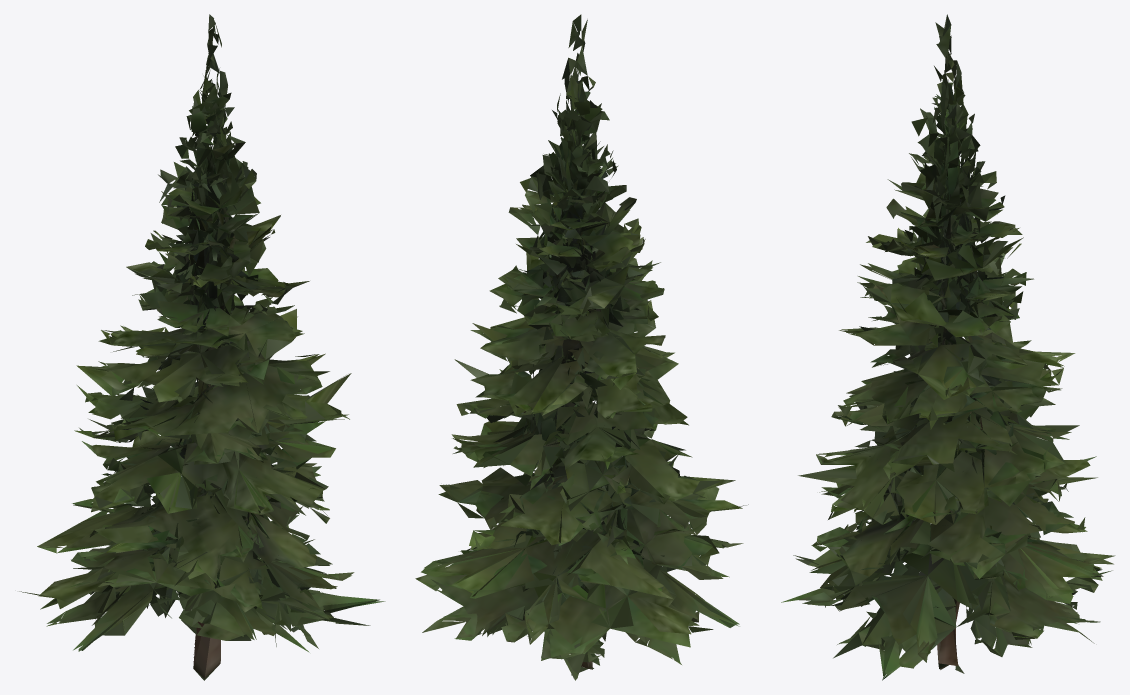
The model's file is meshy-pine-m0.glb.
3 views of the same model, side by side, from view 1: azimuth 30°, elevation 25°; view 2: azimuth 150°, elevation 25°; view 3: azimuth 270°, elevation 25° (orthographic).
Visible parts, largest first — view 1: Mesh_0; view 2: Mesh_0; view 3: Mesh_0.
Part boxes in pixels (x1,y1,x2,y2): Mesh_0: (19, 14, 385, 680); Mesh_0: (415, 14, 748, 680); Mesh_0: (781, 14, 1115, 680).
Bounding box in the file's own units: 0.9053 × 1.85 × 0.8546.
1 material, 1 textured.
